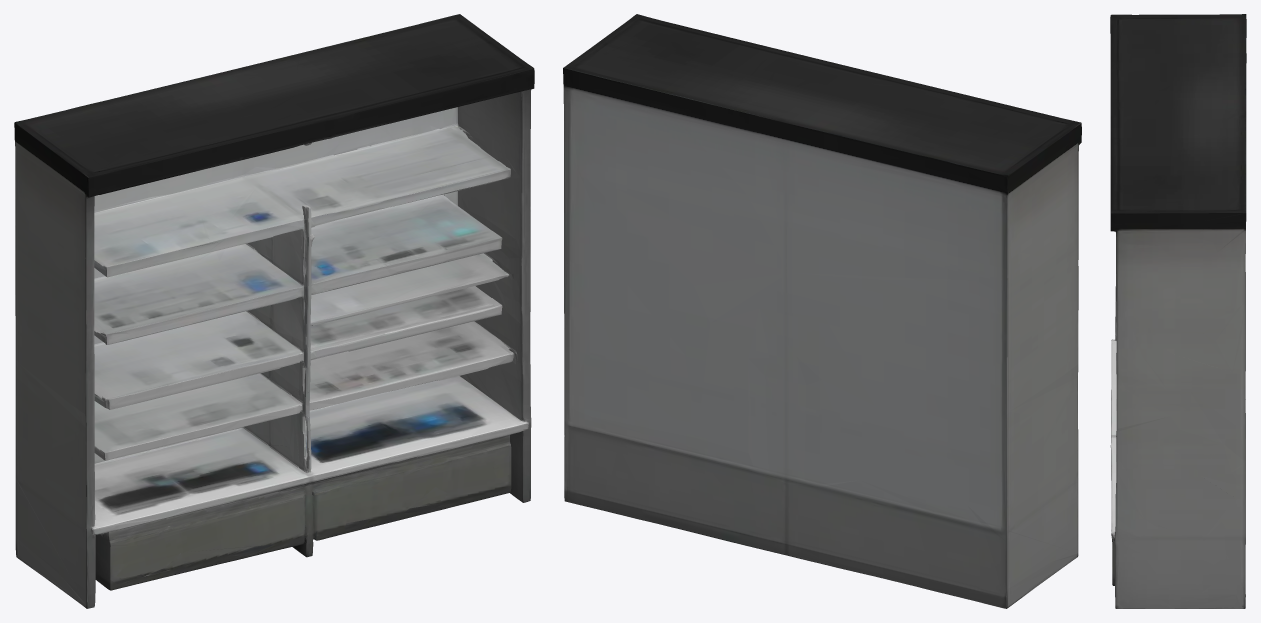
3 renders of one model, left to right at view 1: azimuth 30°, elevation 25°; view 2: azimuth 150°, elevation 25°; view 3: azimuth 270°, elevation 25°, orthographic. The views are drawn at different scales.
Visible parts, largest first — view 1: geometry_0; view 2: geometry_0; view 3: geometry_0.
Part boxes in pixels (bbox=[...]): geometry_0: bbox=[14, 14, 534, 608]; geometry_0: bbox=[563, 14, 1081, 608]; geometry_0: bbox=[1110, 14, 1246, 608].
Bounding box in the file's own units: 1 × 0.9328 × 0.2893.
1 material, 1 textured.
